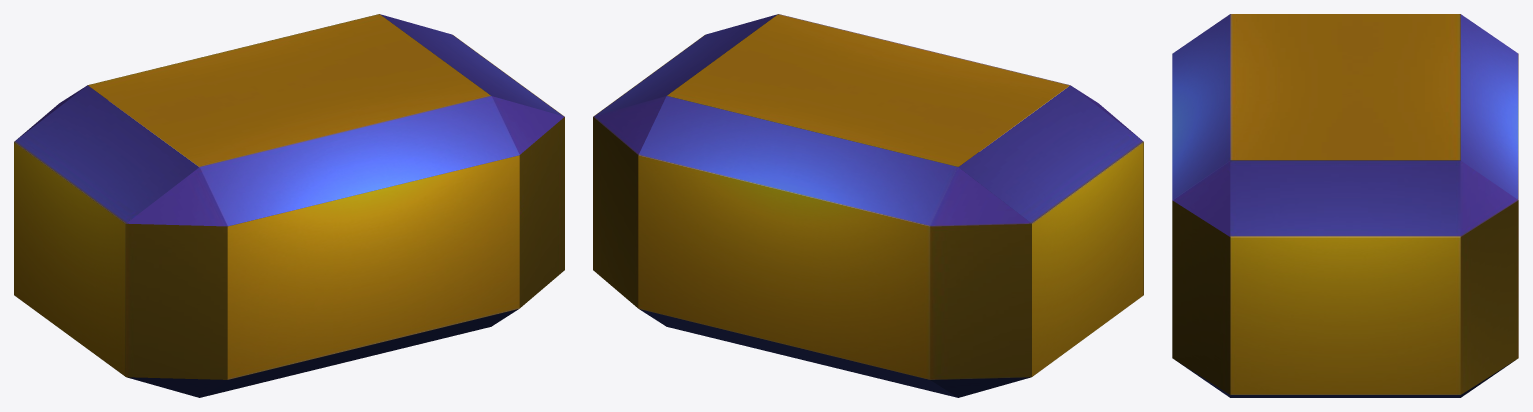
File: forcepowerup3.dae
3 renders of one model, left to right at view 1: azimuth 30°, elevation 25°; view 2: azimuth 150°, elevation 25°; view 3: azimuth 270°, elevation 25°, orthographic. The views are drawn at different scales.
Visible parts, largest first — view 1: powerpack; view 2: powerpack; view 3: powerpack.
Boxes of the visible parts, x1,y1,x2,y2 form: powerpack: (14, 14, 564, 397); powerpack: (593, 14, 1143, 397); powerpack: (1172, 14, 1518, 397).
Bounding box in the file's own units: 2 × 1.33 × 1.
Materials: 1 (1 with a texture image).
